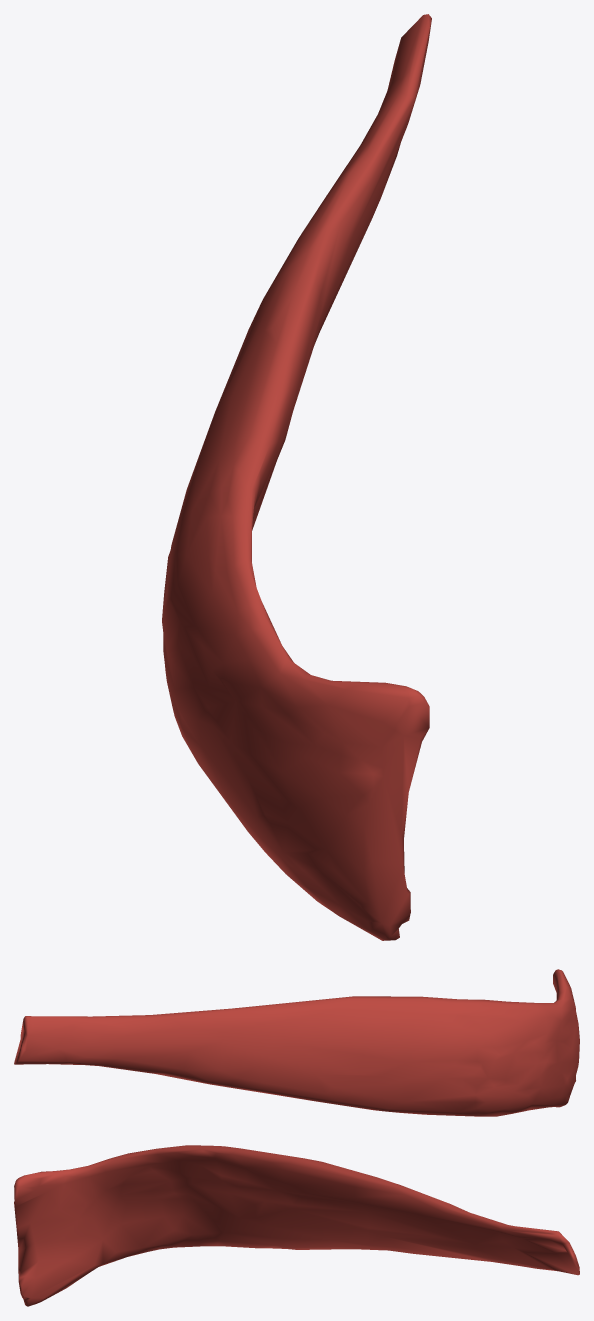
File: musculos-lateral-rectus-muscle-r.glb
The picture shows the model from 3 angles, top to bottom: view 1: azimuth 30°, elevation 25°; view 2: azimuth 150°, elevation 25°; view 3: azimuth 270°, elevation 25°; orthographic projection. The views are drawn at different scales.
Parts seen in each view (by area): view 1: Lateral rectus muscle.r; view 2: Lateral rectus muscle.r; view 3: Lateral rectus muscle.r.
Boxes of the visible parts, left/top/right/bottom form: Lateral rectus muscle.r: left=162, top=14, right=431, bottom=940; Lateral rectus muscle.r: left=14, top=969, right=579, bottom=1116; Lateral rectus muscle.r: left=14, top=1145, right=579, bottom=1306.
Size of the model in its own units: 0.0264 by 0.0164 by 0.0398.
